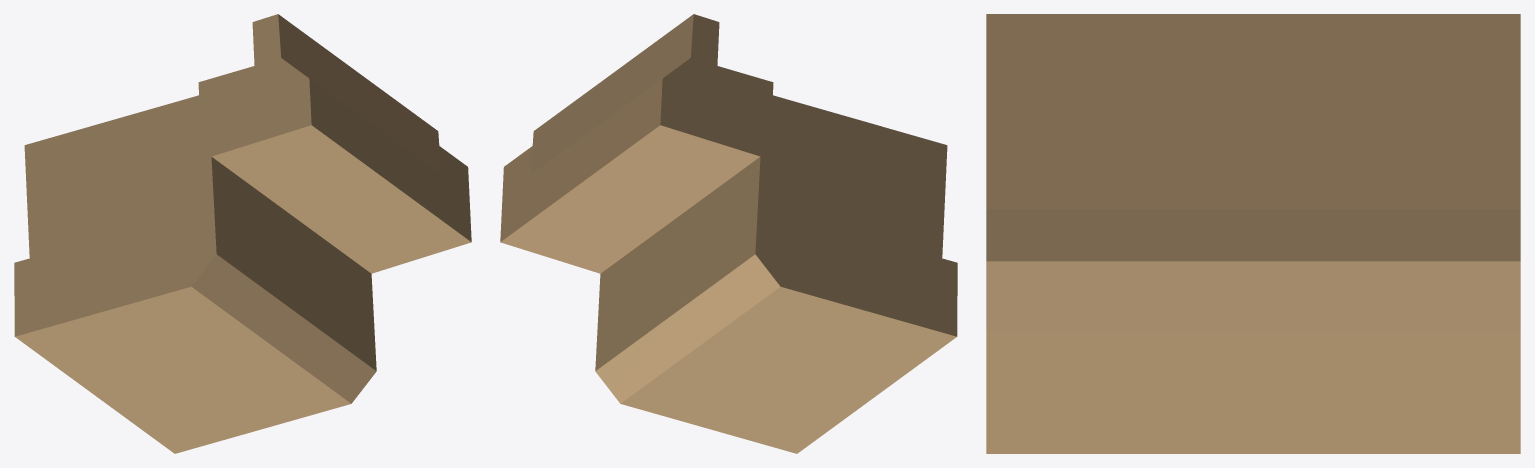
3 renders of one model, left to right at view 1: azimuth 30°, elevation 25°; view 2: azimuth 150°, elevation 25°; view 3: azimuth 270°, elevation 25°, orthographic. The views are drawn at different scales.
Parts seen in each view (by area): view 1: 0_3_0_1_2_1_2_0_2; view 2: 0_3_0_1_2_1_2_0_2; view 3: 0_3_0_1_2_1_2_0_2.
Boxes of the visible parts, bbox=[...] form: 0_3_0_1_2_1_2_0_2: bbox=[14, 14, 471, 453]; 0_3_0_1_2_1_2_0_2: bbox=[500, 14, 957, 453]; 0_3_0_1_2_1_2_0_2: bbox=[986, 14, 1520, 453].
Size of the model in its own units: 28.95 by 24.05 by 27.
